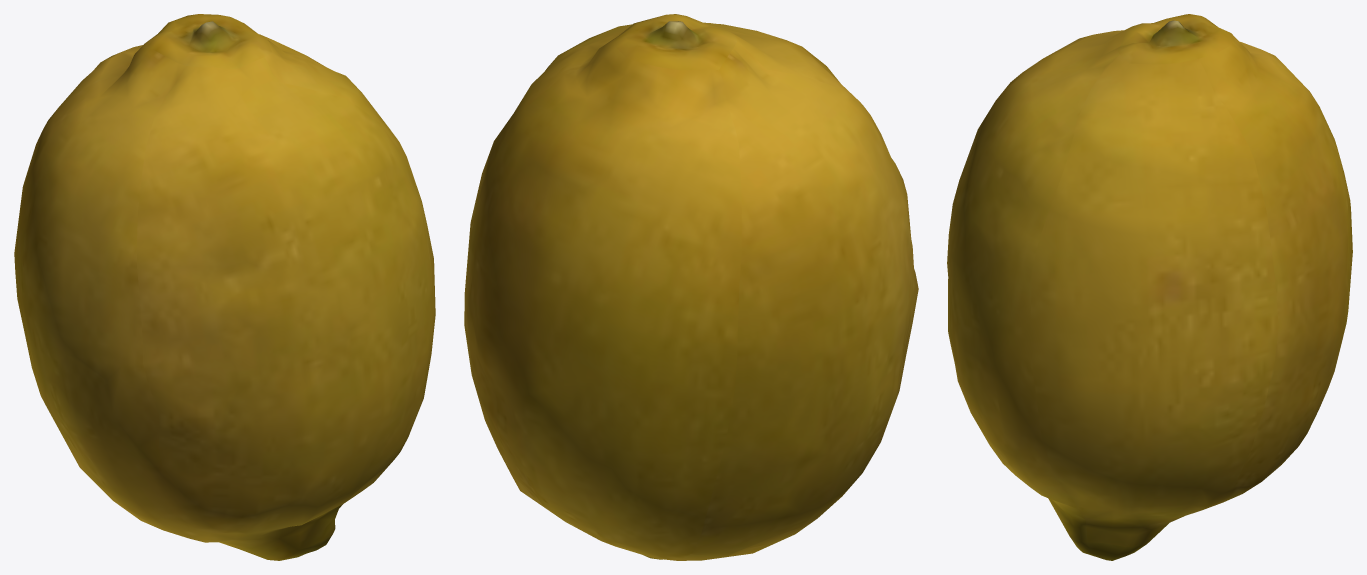
Rendered from lemon.glb.
The picture shows the model from 3 angles, left to right: view 1: azimuth 30°, elevation 25°; view 2: azimuth 150°, elevation 25°; view 3: azimuth 270°, elevation 25°; orthographic projection. The views are drawn at different scales.
Parts seen in each view (by area): view 1: lemon; view 2: lemon; view 3: lemon.
Boxes of the visible parts, bbox=[...] form: lemon: bbox=[14, 14, 435, 560]; lemon: bbox=[464, 14, 918, 560]; lemon: bbox=[947, 14, 1352, 560].
Bounding box in the file's own units: 0.0686 × 0.0953 × 0.0682.
1 material, 1 textured.
